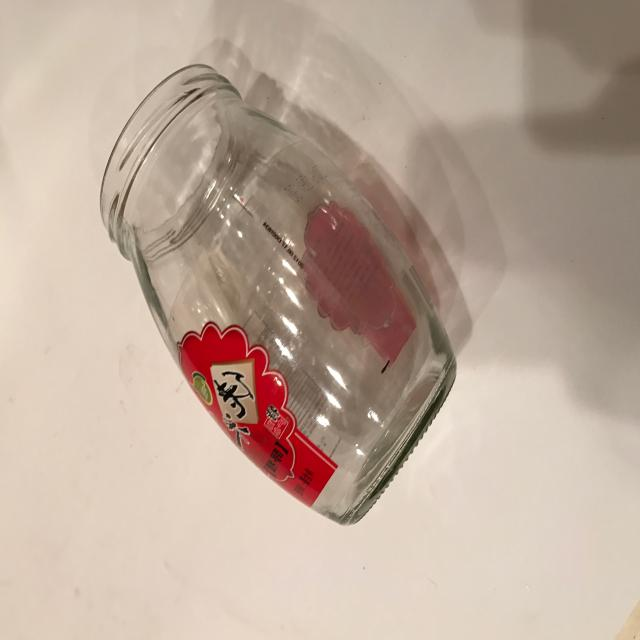glass: (80, 38, 480, 536)
